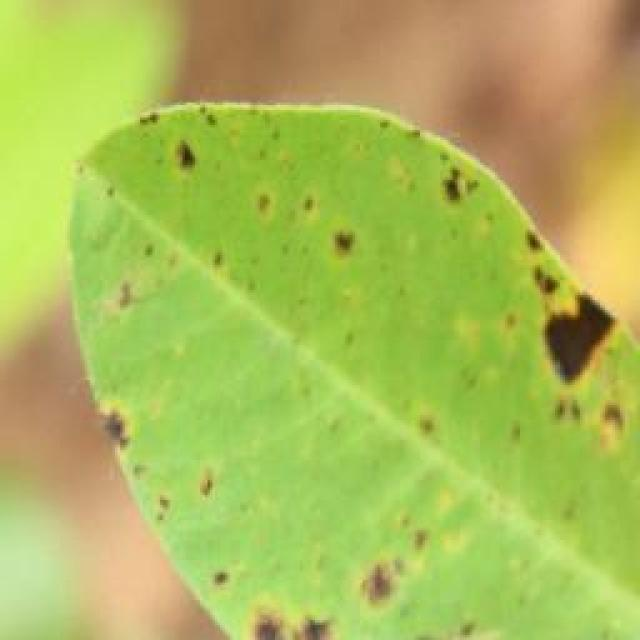Yellowish: (62, 81, 619, 639)
